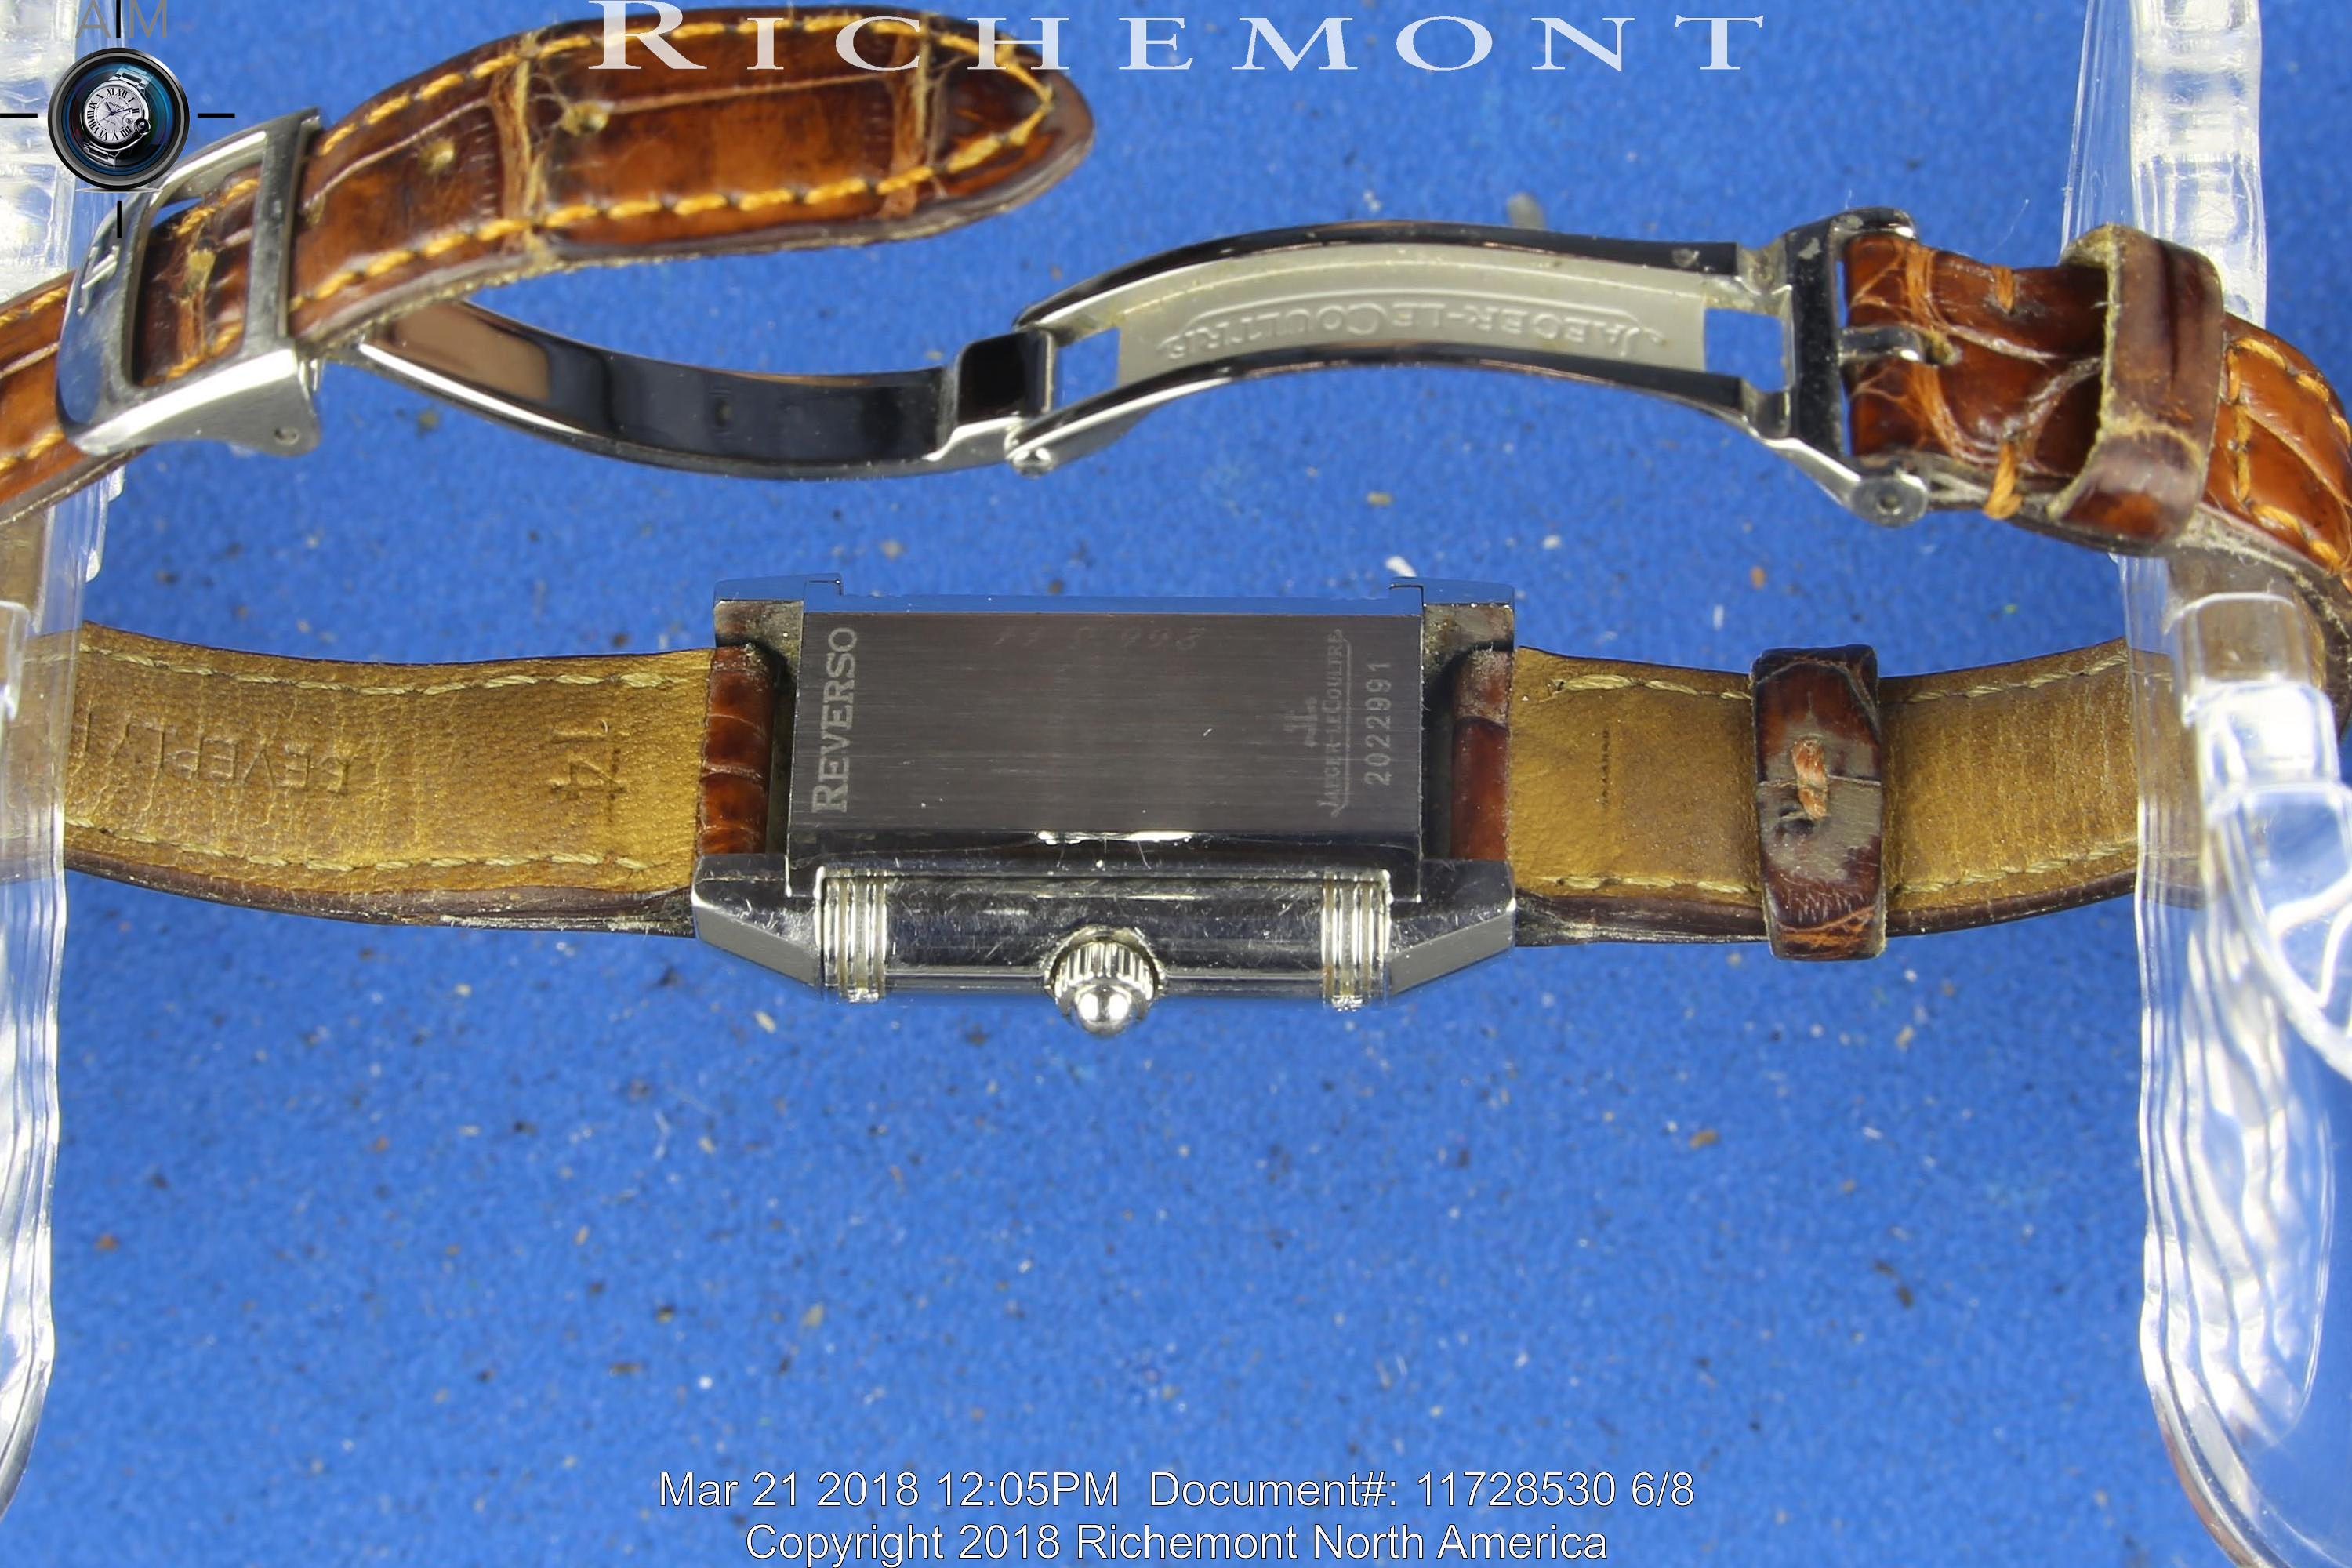Watch Back Case: (693, 569, 1516, 1041)
